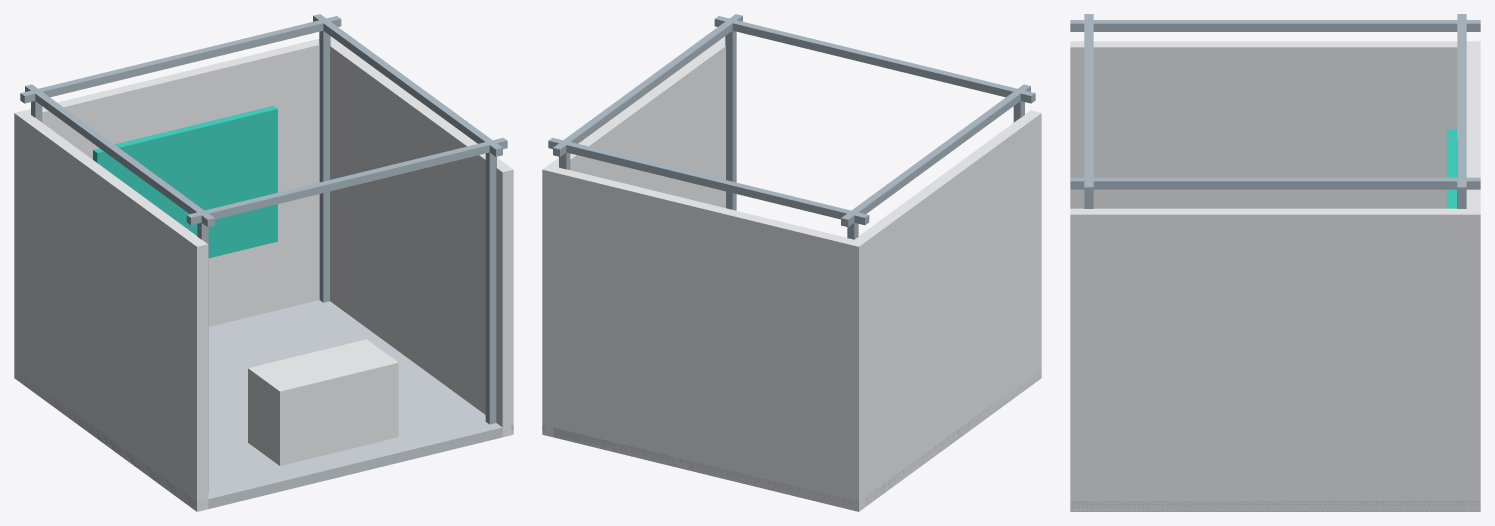
3 views of the same model, side by side, from view 1: azimuth 30°, elevation 25°; view 2: azimuth 150°, elevation 25°; view 3: azimuth 270°, elevation 25° (orthographic). The views are drawn at different scales.
Visible parts, largest first — view 1: Exhibition Booth Concept; view 2: Exhibition Booth Concept; view 3: Exhibition Booth Concept.
Part boxes in pixels (x1,y1,x2,y2): Exhibition Booth Concept: (14,14,513,511); Exhibition Booth Concept: (542,14,1041,511); Exhibition Booth Concept: (1070,14,1480,511).
Bounding box in the file's own units: 4 × 3.49 × 4.
